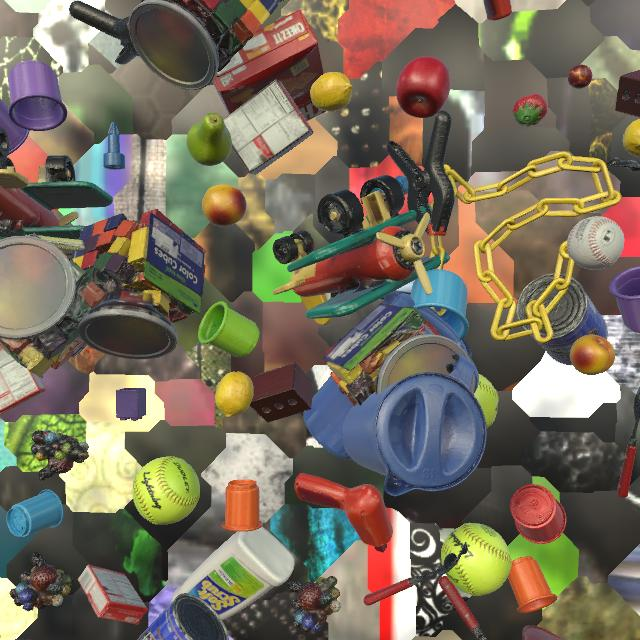ycb_002_master_chef_can: (516, 273, 608, 365), (137, 593, 229, 640)
ycb_003_cracker_box: (212, 9, 327, 121)
ycb_008_pudding_box: (224, 79, 314, 175)
ycb_009_gelatin_box: (78, 565, 148, 625), (0, 347, 46, 415)
ycb_012_strawberry: (513, 94, 547, 126)
ycb_013_apple: (396, 56, 450, 118), (169, 314, 173, 323)
ycb_014_lemon: (215, 371, 254, 418), (310, 72, 353, 112), (623, 119, 640, 157)
ycb_015_peach: (202, 184, 246, 226), (570, 335, 615, 375)
ycb_016_pear: (186, 113, 232, 166)
